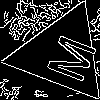M: (36, 29, 99, 85)
